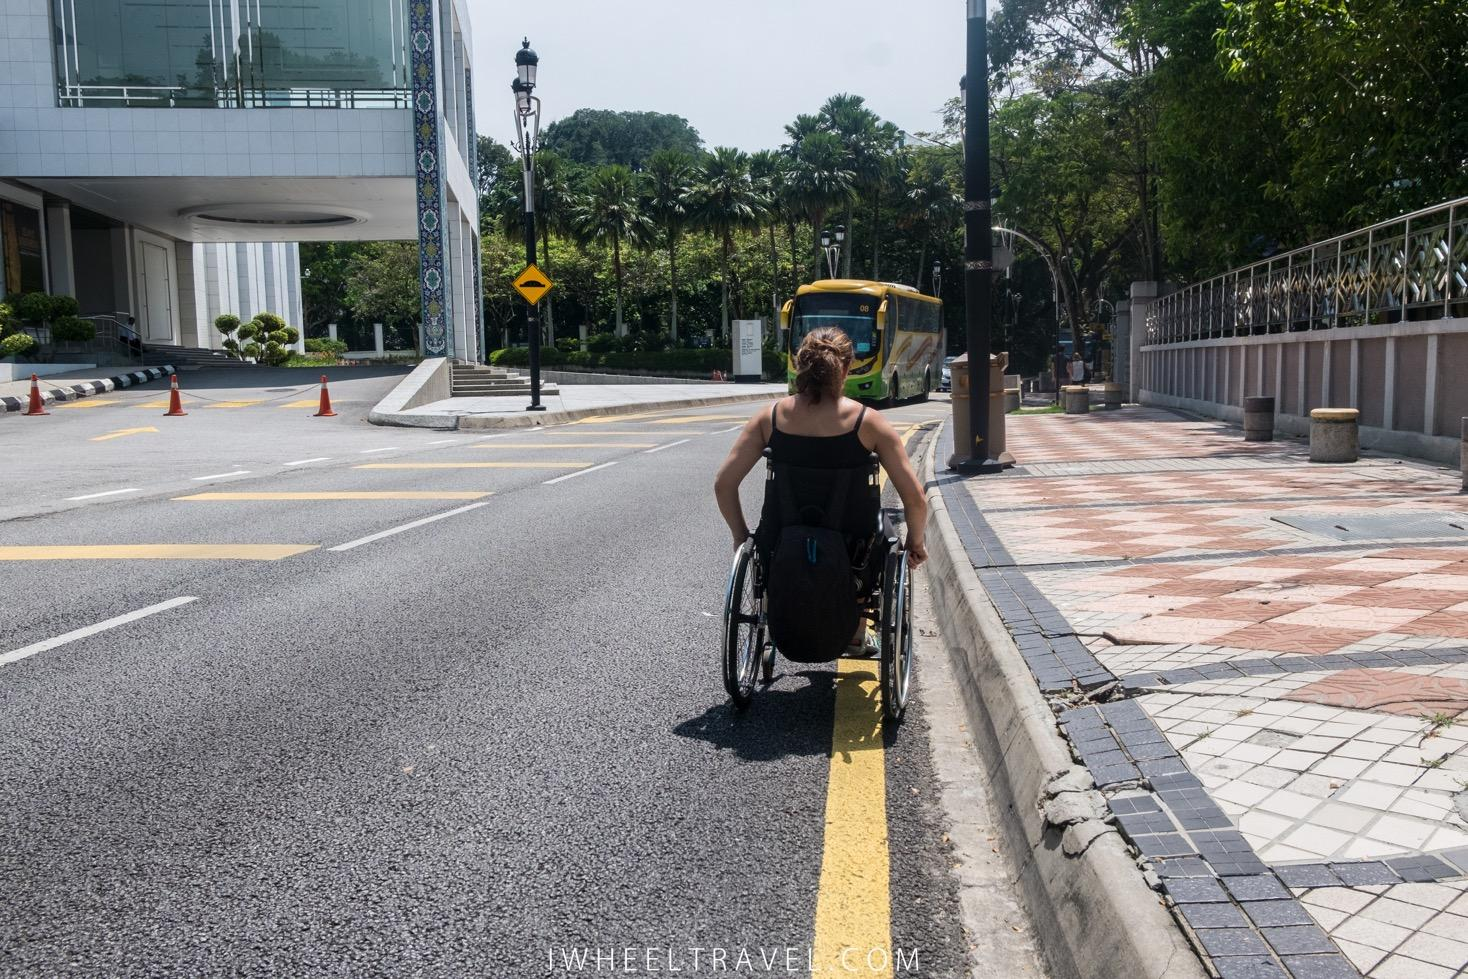wheelchair: (714, 326, 930, 720)
